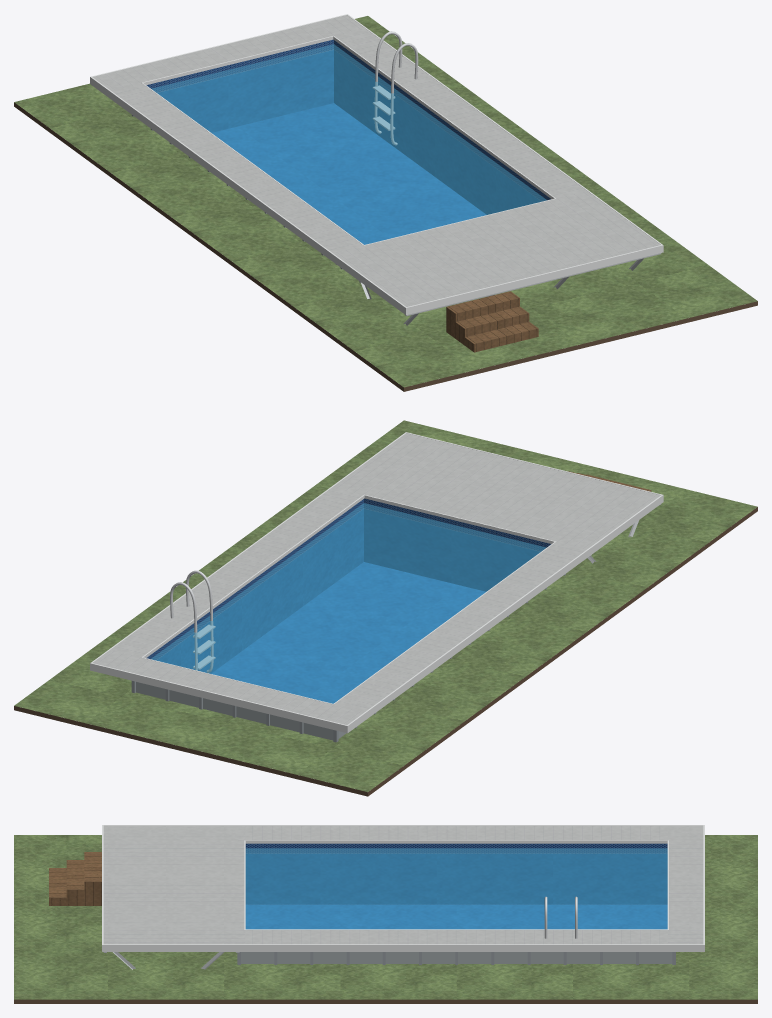
The model's file is kayak-pool-12x24-gray-end-rec-nofence.6e6c063c22.glb.
3 views of the same model, one above another, from view 1: azimuth 30°, elevation 25°; view 2: azimuth 150°, elevation 25°; view 3: azimuth 270°, elevation 25° (orthographic). The views are drawn at different scales.
Visible parts, largest first — view 1: ground, water, deck, liner_wall, liner_floor, fascia, steps, soil, steel, stud; view 2: ground, water, deck, liner_wall, liner_floor, fascia, soil, wall, steel; view 3: ground, water, deck, liner_wall, liner_floor, fascia, wall, soil, steps, upright.
Part boxes in pixels (x1,y1,x2,y2): ground: (14,16,757,387); water: (151,44,546,244); deck: (92,15,660,306); liner_wall: (146,39,550,214); liner_floor: (212,103,486,244); fascia: (90,14,663,315); steps: (446,291,538,352); soil: (14,102,757,391); steel: (372,31,418,145); stud: (335,253,661,325); ground: (14,420,757,791); water: (151,503,546,703); deck: (93,433,660,724); liner_wall: (146,498,551,673); liner_floor: (211,562,485,703); fascia: (90,432,663,733); soil: (14,507,757,796); wall: (136,682,346,740); steel: (170,570,215,672); ground: (14,835,757,999); water: (245,848,667,929); deck: (103,826,703,944); liner_wall: (245,843,667,904); liner_floor: (245,904,667,929); fascia: (102,825,704,951); wall: (241,952,672,963); soil: (14,999,757,1003); steps: (49,852,101,905); upright: (237,952,675,964).
Bounding box in the file's own units: 6.71 × 1.9 × 12.79.
12 materials, 5 textured.
